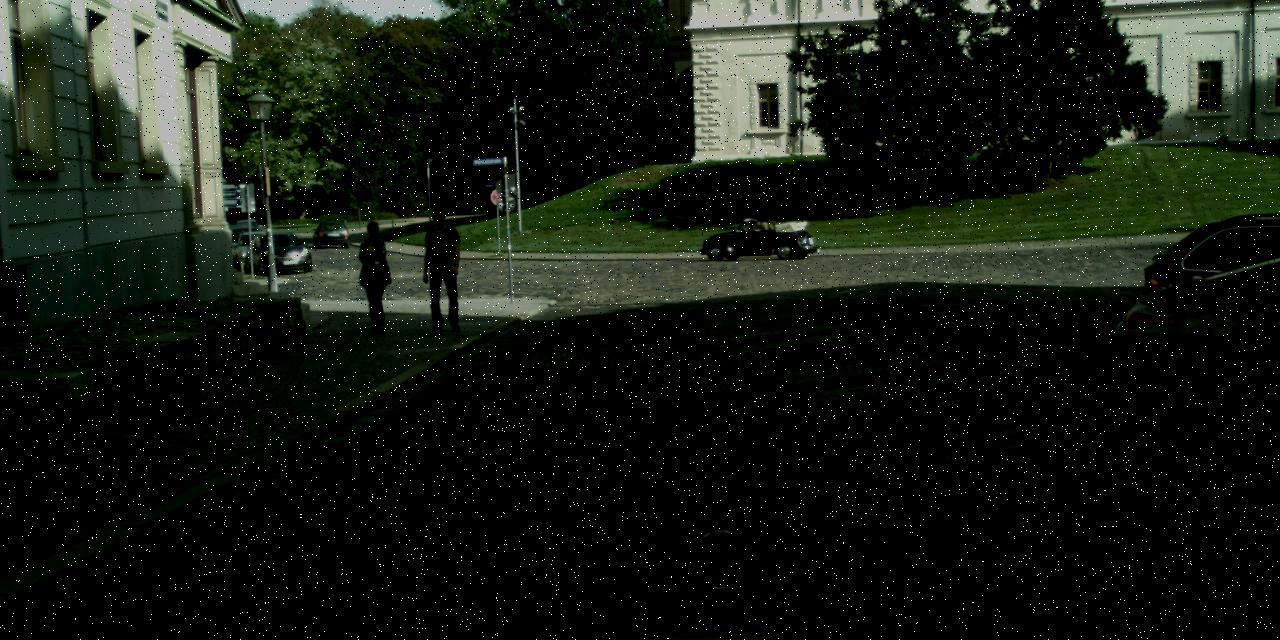ped: (417, 208, 467, 330), (353, 221, 398, 331), (470, 198, 476, 214)
